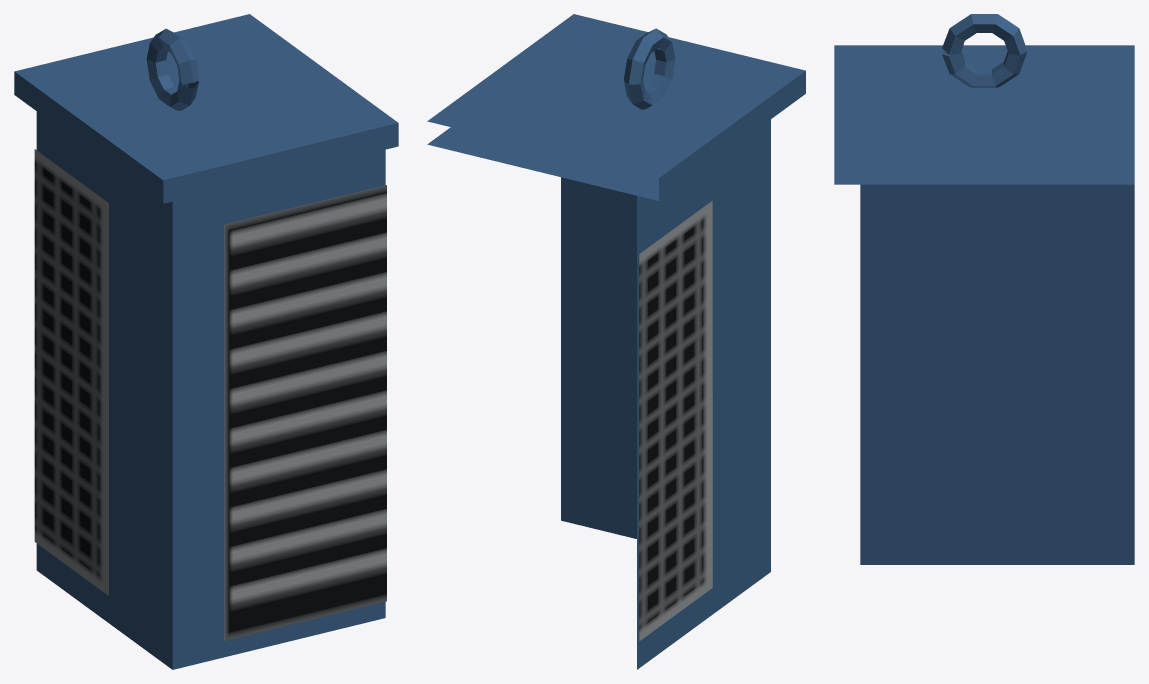
The model's file is cell_61.obj.
The picture shows the model from 3 angles, left to right: view 1: azimuth 30°, elevation 25°; view 2: azimuth 150°, elevation 25°; view 3: azimuth 270°, elevation 25°; orthographic projection. The views are drawn at different scales.
Bounding box in the file's own units: 0.42 × 0.9828 × 0.46.
